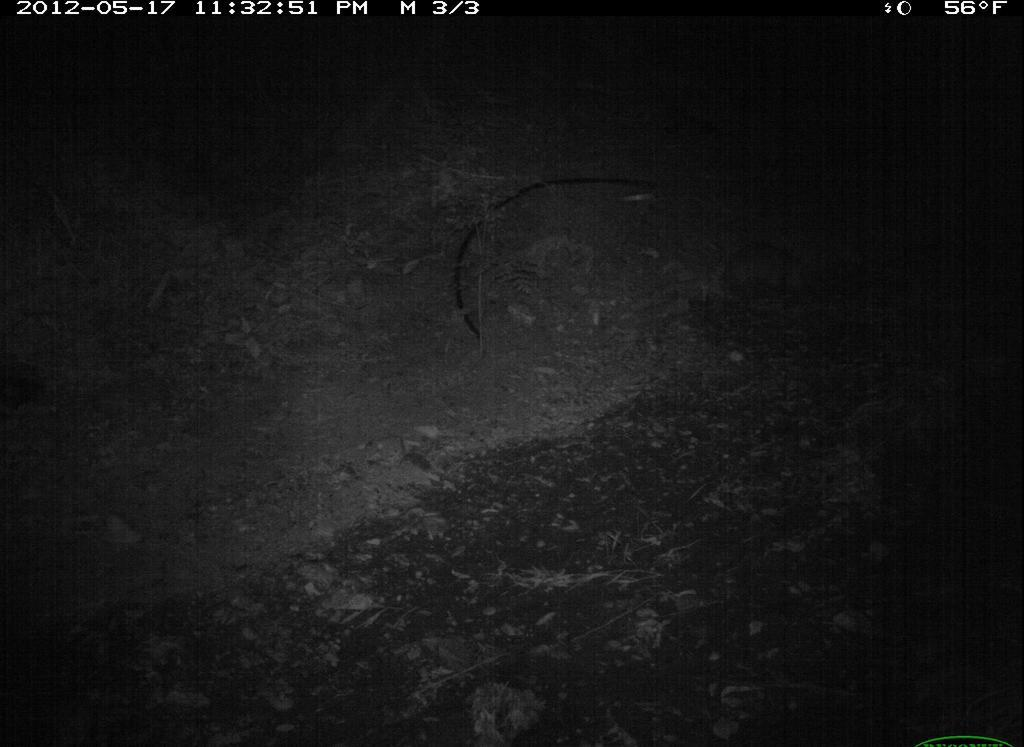opossum: (707, 216, 815, 300)
